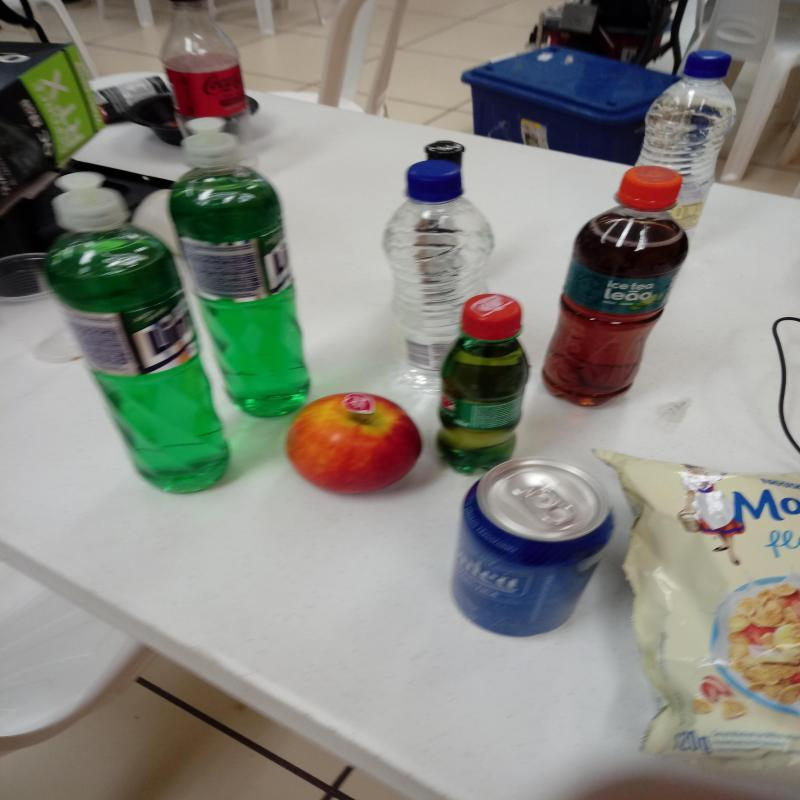Apple: (284, 393, 423, 498)
Cleaner: (46, 172, 230, 496), (169, 117, 310, 419)
CornFlakes: (601, 452, 800, 769)
EnglishSauce: (425, 141, 464, 166)
Guarana: (439, 293, 531, 478)
IceTea: (542, 165, 689, 408)
Tonic: (449, 459, 615, 640)
Water: (387, 160, 493, 377), (634, 51, 736, 231)
